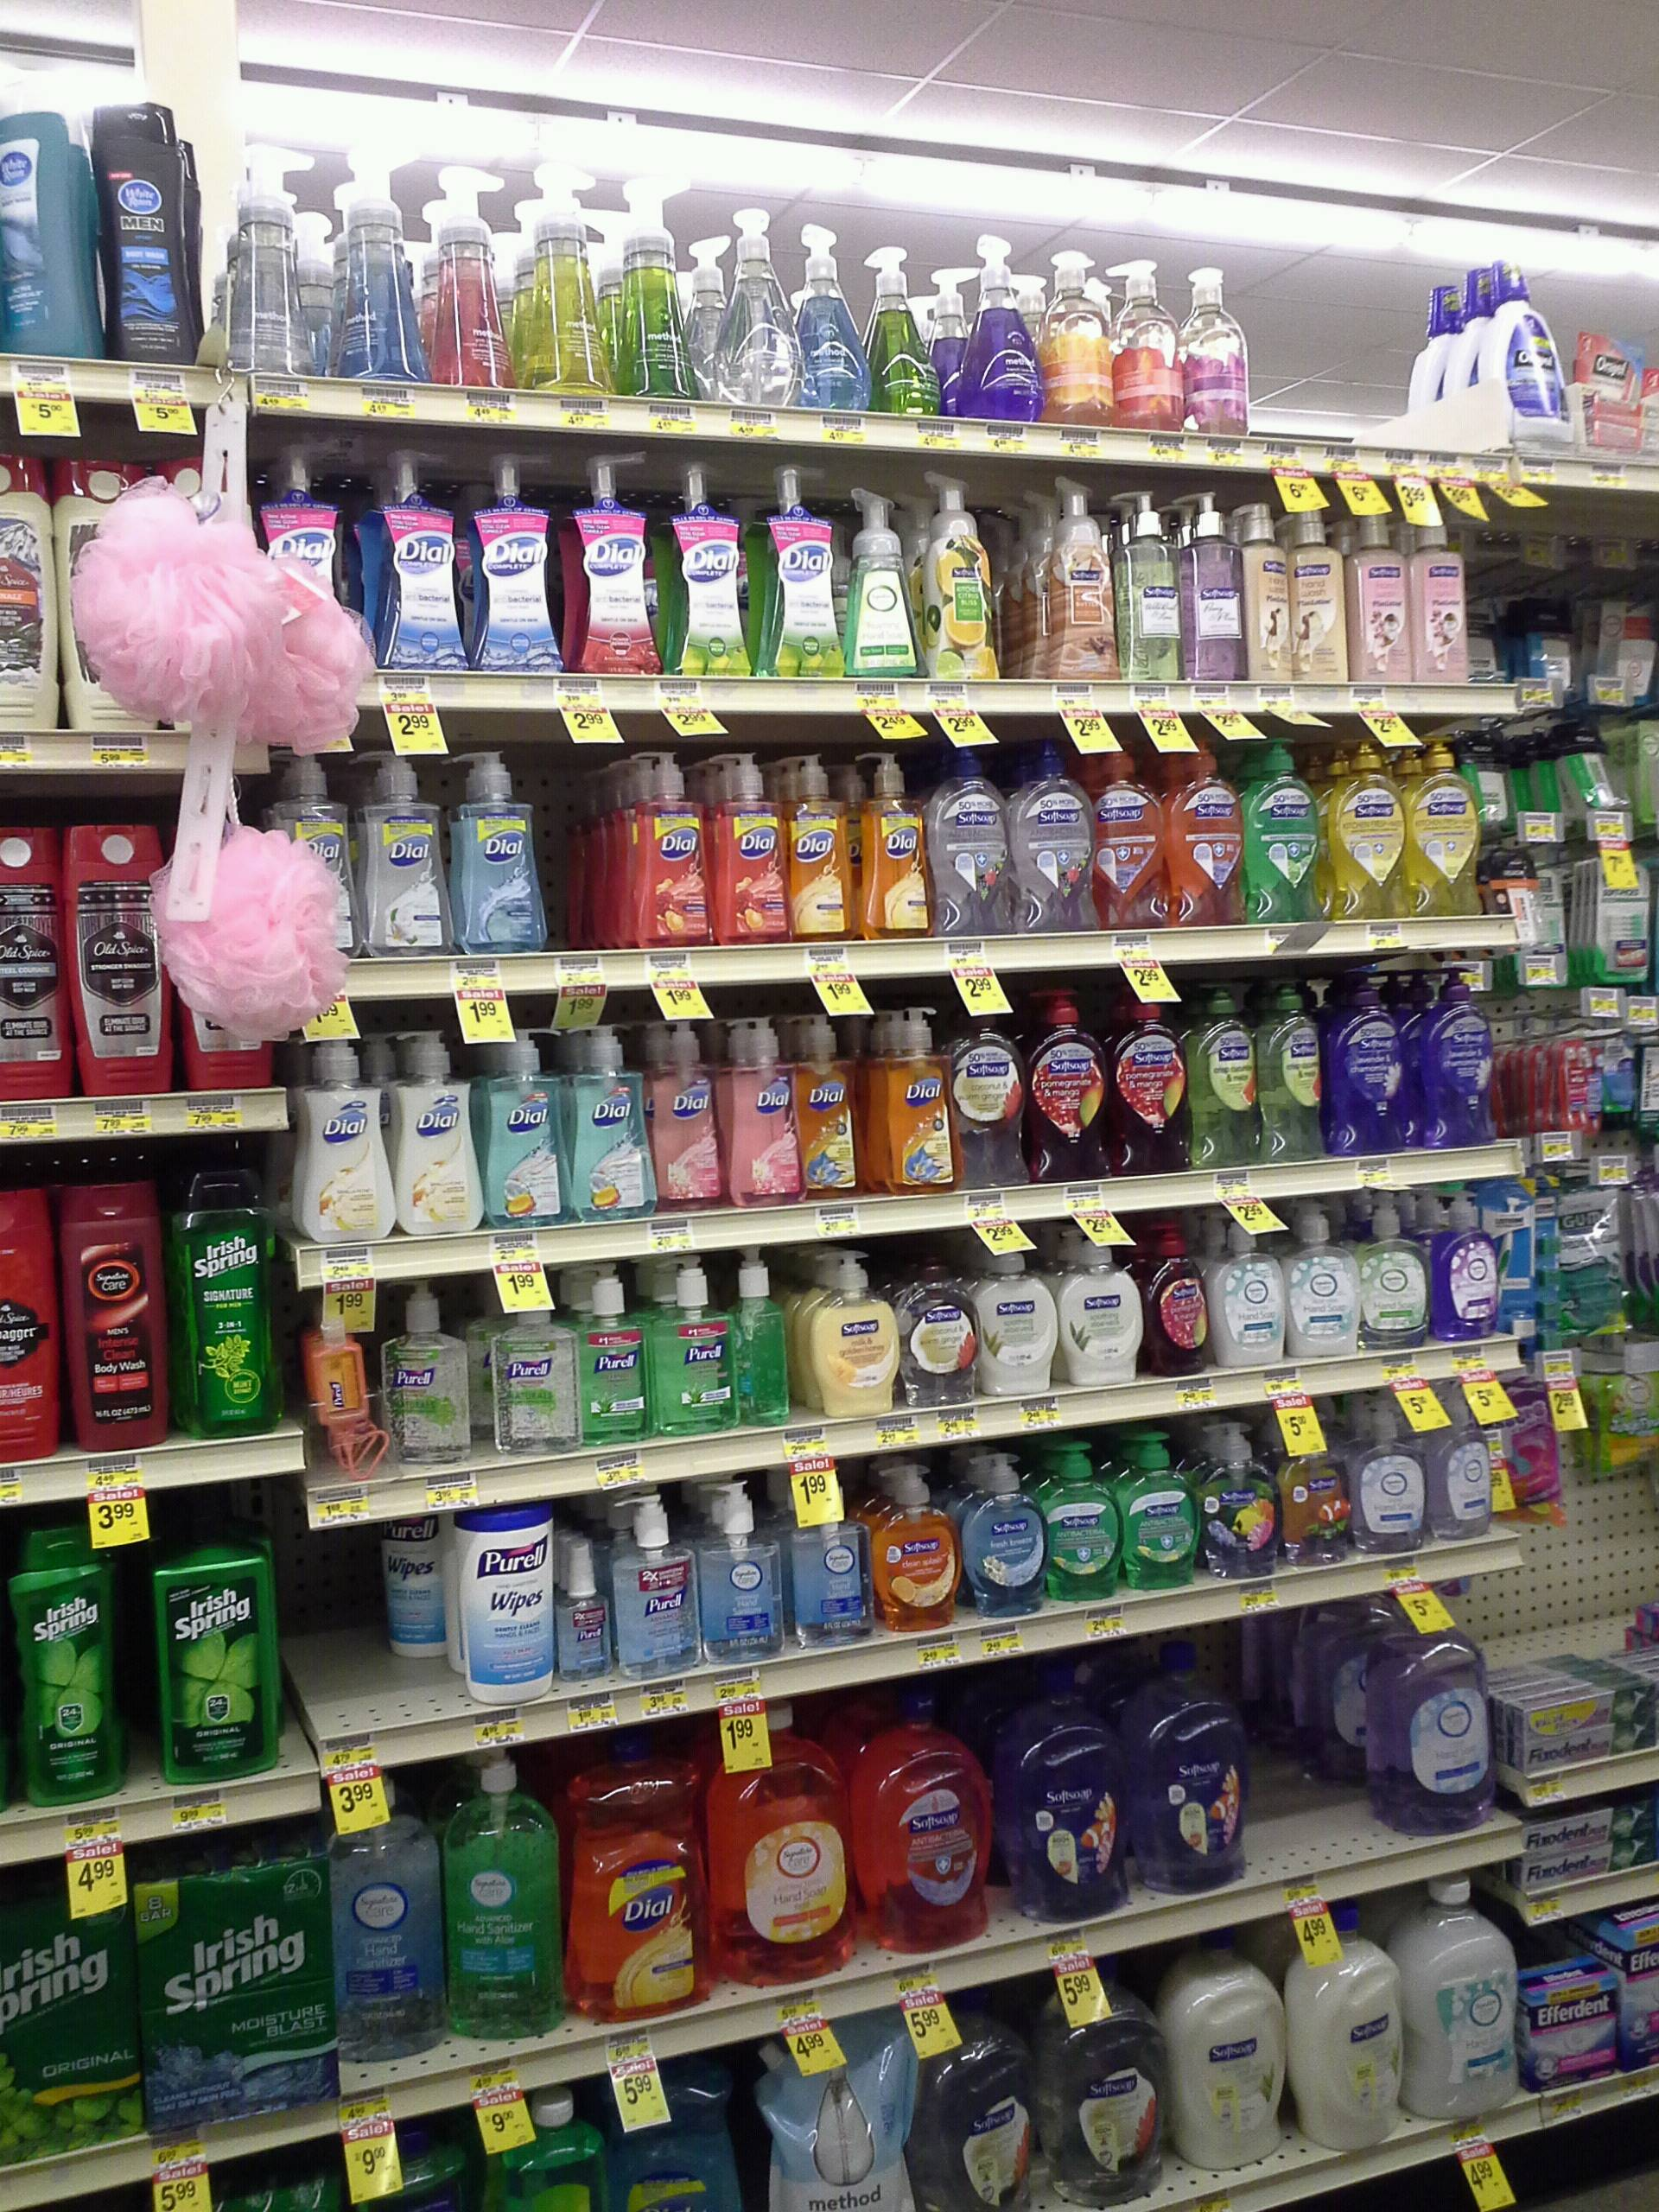product: (118, 1853, 312, 2116), (854, 1660, 988, 1984), (132, 1494, 274, 1797), (709, 1716, 843, 1984), (2, 1507, 122, 1803), (565, 1731, 685, 2020), (51, 1157, 166, 1446), (329, 1771, 429, 2085), (1290, 1902, 1413, 2153), (437, 1768, 551, 2040), (1117, 1649, 1249, 1878), (1000, 1651, 1114, 1907), (178, 1151, 275, 1440), (58, 432, 152, 732), (1415, 1881, 1521, 2132), (929, 1996, 1047, 2212), (1358, 1606, 1473, 1827), (756, 2024, 887, 2212), (462, 427, 558, 681), (331, 136, 423, 397), (512, 146, 610, 385), (64, 822, 153, 1083), (0, 127, 101, 350), (1169, 1947, 1270, 2170), (558, 441, 652, 676), (458, 733, 551, 970), (1063, 1982, 1154, 2210), (260, 448, 347, 676), (213, 146, 305, 361), (366, 421, 443, 679), (371, 1019, 462, 1233), (828, 463, 918, 674), (265, 737, 347, 965), (565, 995, 640, 1242), (1460, 263, 1556, 456), (108, 92, 178, 357), (870, 986, 955, 1198), (932, 219, 1023, 416), (617, 162, 699, 376), (1490, 1669, 1650, 1777), (950, 989, 1035, 1190), (453, 1496, 538, 1695), (0, 796, 58, 1089), (796, 988, 870, 1211), (695, 1487, 786, 1665), (477, 1005, 549, 1228), (305, 1015, 375, 1244), (1330, 968, 1413, 1157), (870, 1458, 958, 1634), (641, 1007, 716, 1212), (626, 747, 697, 960), (890, 1238, 974, 1416), (856, 726, 925, 939), (795, 1238, 882, 1407), (936, 737, 1009, 937), (378, 733, 441, 965), (713, 1010, 784, 1212), (1236, 737, 1312, 925), (1028, 716, 1094, 930), (702, 212, 779, 397), (1324, 728, 1398, 920), (382, 1287, 457, 1472), (1103, 995, 1183, 1167), (429, 157, 488, 387), (791, 1474, 864, 1658), (1255, 979, 1324, 1172), (1026, 982, 1096, 1176), (498, 1282, 577, 1453), (676, 442, 734, 674), (1178, 482, 1243, 686), (1185, 984, 1255, 1172), (620, 1475, 690, 1663), (931, 451, 992, 665), (772, 742, 838, 939), (1530, 1184, 1622, 1325), (762, 462, 828, 657), (1342, 474, 1406, 674), (795, 204, 863, 394), (655, 1258, 728, 1433), (1406, 738, 1480, 914), (1495, 1374, 1574, 1536), (1032, 240, 1098, 432), (1119, 1428, 1195, 1592), (1114, 482, 1178, 676), (1108, 721, 1168, 930), (1281, 1397, 1347, 1583), (1042, 474, 1103, 676), (1206, 1420, 1277, 1592), (1352, 1191, 1427, 1355), (310, 1294, 375, 1480), (1347, 1395, 1424, 1548), (1042, 1442, 1115, 1602), (976, 1440, 1039, 1623), (986, 1228, 1056, 1392), (859, 218, 917, 413), (1553, 1026, 1659, 1130), (1540, 1973, 1631, 2095), (1107, 240, 1164, 432), (587, 1256, 641, 1456), (1133, 1219, 1202, 1372), (1408, 481, 1464, 671), (1419, 968, 1478, 1146), (734, 1233, 788, 1426), (1185, 253, 1246, 423), (1581, 846, 1659, 979), (711, 742, 763, 941), (1429, 1371, 1490, 1538), (1279, 1204, 1347, 1353), (1290, 488, 1342, 681), (1438, 1186, 1502, 1339), (1506, 1817, 1659, 1879), (545, 1512, 605, 1674), (1063, 1214, 1121, 1379), (1572, 336, 1659, 442), (1220, 1200, 1276, 1360), (1586, 583, 1659, 700), (1175, 733, 1222, 914), (1540, 716, 1615, 826), (1495, 857, 1561, 979), (383, 1521, 432, 1677), (1251, 488, 1290, 679), (1600, 1359, 1659, 1480), (1500, 603, 1567, 700)
